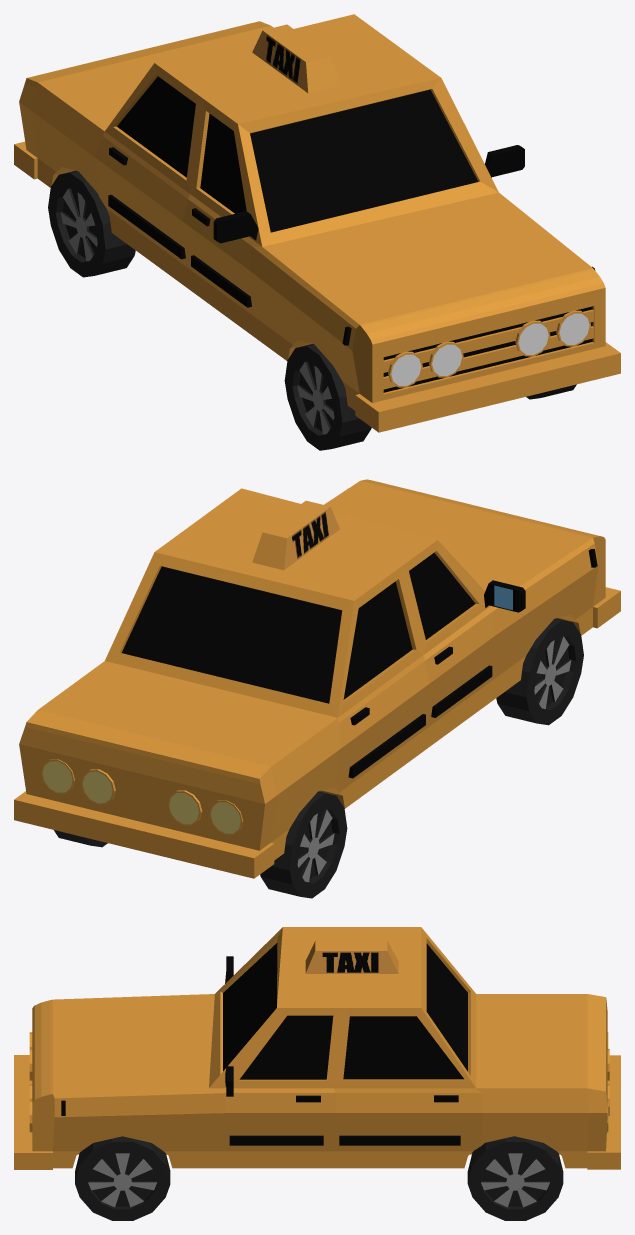
Rendered from taxi.glb.
The picture shows the model from 3 angles, top to bottom: view 1: azimuth 30°, elevation 25°; view 2: azimuth 150°, elevation 25°; view 3: azimuth 270°, elevation 25°; orthographic projection. The views are drawn at different scales.
Parts seen in each view (by area): view 1: Taxi, Rear tire_2, Front tire_2; view 2: Taxi, Front tire_2, Rear tire_2; view 3: Taxi, Rear tire_1, Front tire_1.
Boxes of the visible parts, left/top/right/bottom form: Taxi: left=14, top=14, right=620, bottom=432; Rear tire_2: left=48, top=170, right=135, bottom=277; Front tire_2: left=284, top=344, right=371, bottom=450; Taxi: left=14, top=479, right=620, bottom=878; Front tire_2: left=496, top=618, right=583, bottom=725; Rear tire_2: left=260, top=791, right=347, bottom=898; Taxi: left=14, top=927, right=620, bottom=1169; Rear tire_1: left=467, top=1136, right=563, bottom=1220; Front tire_1: left=75, top=1136, right=170, bottom=1220.
Size of the model in its own units: 1.84 by 1.56 by 3.79.
8 materials, 1 textured.
